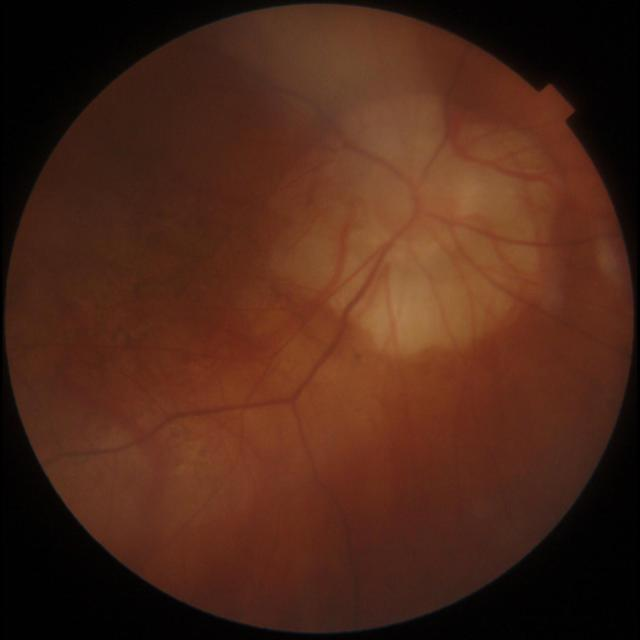OD: (369, 152, 461, 242)
